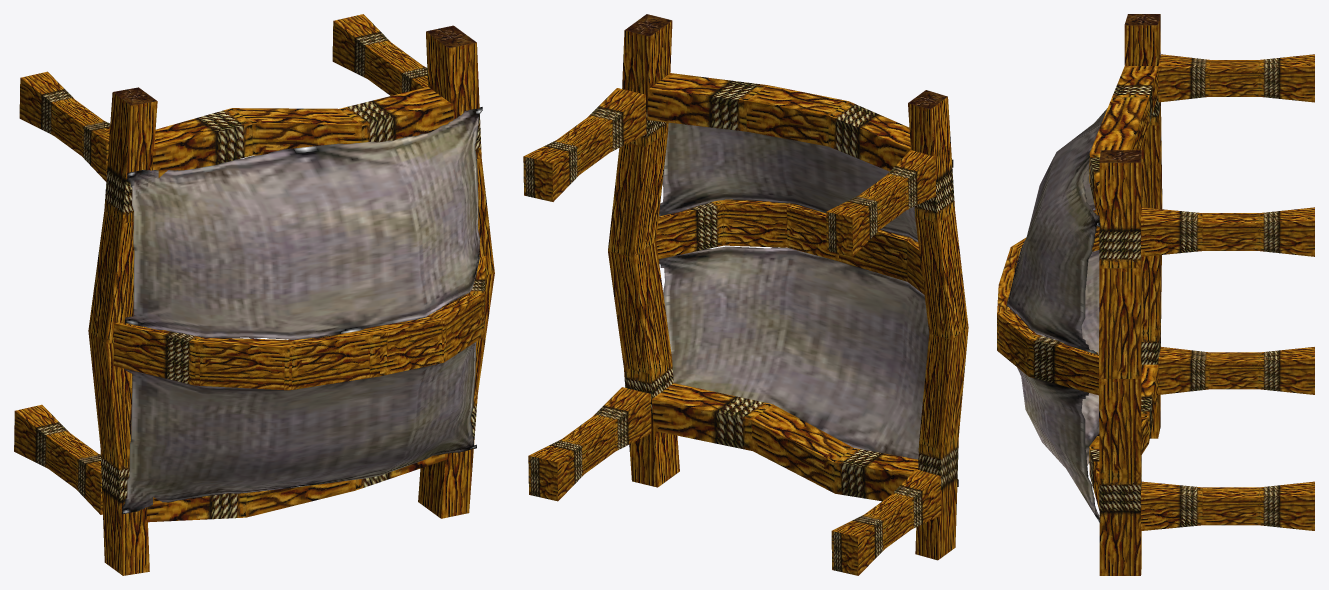
File: LVL_RIV_INST_SMALL_TENT.obj
3 views of the same model, side by side, from view 1: azimuth 30°, elevation 25°; view 2: azimuth 150°, elevation 25°; view 3: azimuth 270°, elevation 25° (orthographic). The views are drawn at different scales.
Parts seen in each view (by area): view 1: inst_small_tent; view 2: inst_small_tent; view 3: inst_small_tent.
Part boxes in pixels (box(x1,y1,x2,y2)): inst_small_tent: box(14, 14, 494, 575); inst_small_tent: box(523, 14, 968, 575); inst_small_tent: box(997, 14, 1314, 575).
Bounding box in the file's own units: 481 × 588 × 401.
